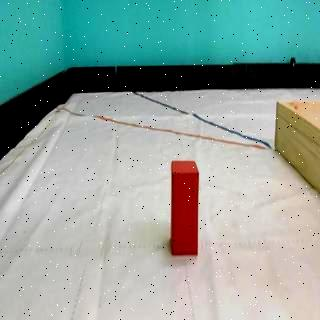redbox: (172, 160, 198, 256)
